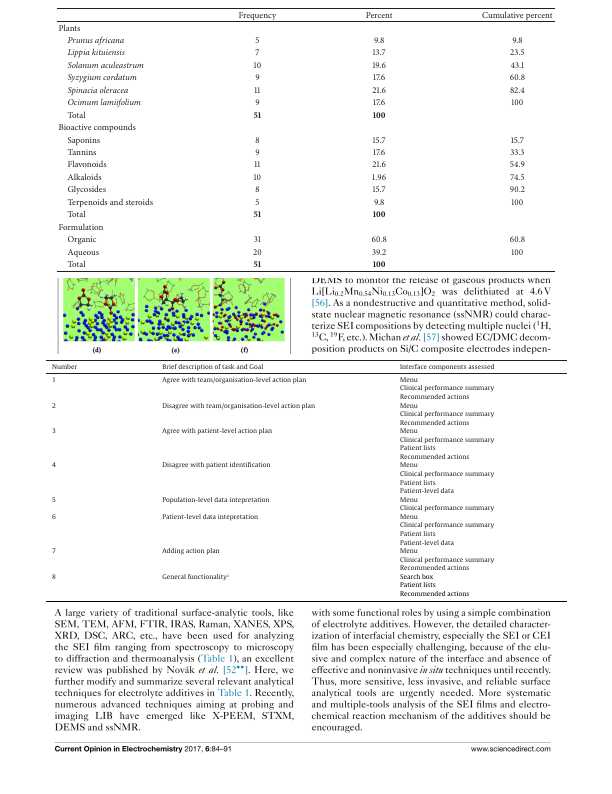borderless: (55, 6, 555, 271), (45, 359, 567, 601)
cell: (398, 428, 494, 462), (398, 462, 494, 496), (398, 514, 494, 548), (398, 402, 494, 428), (398, 377, 494, 402), (398, 548, 494, 573), (398, 574, 470, 599), (398, 496, 494, 513), (161, 402, 315, 411), (161, 377, 307, 385), (161, 462, 271, 471), (161, 496, 270, 505), (66, 197, 154, 208), (161, 363, 264, 372), (161, 428, 272, 436), (57, 122, 137, 133), (398, 363, 495, 372), (66, 60, 145, 71), (66, 97, 142, 108), (481, 10, 554, 21), (161, 514, 258, 522), (66, 73, 138, 83), (66, 85, 129, 96), (66, 35, 125, 46), (161, 573, 230, 582), (66, 48, 126, 58), (57, 222, 104, 233), (161, 548, 220, 556), (238, 10, 277, 21), (66, 160, 108, 170), (66, 185, 107, 195), (66, 172, 103, 183), (66, 247, 100, 258), (66, 234, 98, 245), (66, 135, 101, 145), (66, 147, 97, 158), (365, 10, 394, 21), (50, 363, 78, 372), (57, 23, 81, 33), (66, 110, 87, 121), (66, 259, 87, 270), (66, 210, 87, 220), (509, 85, 526, 96), (509, 172, 526, 183), (371, 234, 388, 245), (509, 234, 526, 245), (371, 60, 387, 71), (371, 85, 387, 96), (509, 147, 525, 158), (371, 172, 387, 183), (371, 247, 387, 258), (509, 48, 526, 58), (509, 73, 526, 83), (509, 160, 526, 170), (509, 185, 526, 195), (510, 60, 525, 71), (371, 160, 387, 170), (372, 97, 386, 108), (510, 97, 524, 108), (372, 147, 386, 158), (510, 197, 524, 208), (510, 247, 524, 258), (372, 48, 387, 58), (372, 135, 387, 145), (510, 135, 525, 145), (372, 185, 387, 195), (511, 35, 524, 46), (372, 73, 386, 83), (372, 259, 387, 268), (373, 35, 385, 46), (373, 197, 385, 208), (252, 247, 263, 258), (372, 110, 387, 118), (372, 210, 387, 218), (253, 60, 262, 71), (253, 172, 262, 183), (253, 234, 262, 245), (253, 85, 261, 96), (253, 259, 262, 268), (253, 160, 261, 170), (254, 97, 261, 108), (254, 147, 261, 158), (253, 110, 262, 118), (253, 210, 262, 218), (254, 73, 261, 83), (254, 135, 261, 145), (254, 185, 261, 195), (254, 35, 260, 46), (254, 197, 260, 208), (254, 48, 260, 58), (50, 402, 56, 411), (50, 462, 56, 471), (50, 496, 56, 505), (50, 377, 56, 385), (50, 428, 56, 436), (50, 514, 56, 522), (50, 548, 56, 556), (50, 574, 56, 582)
